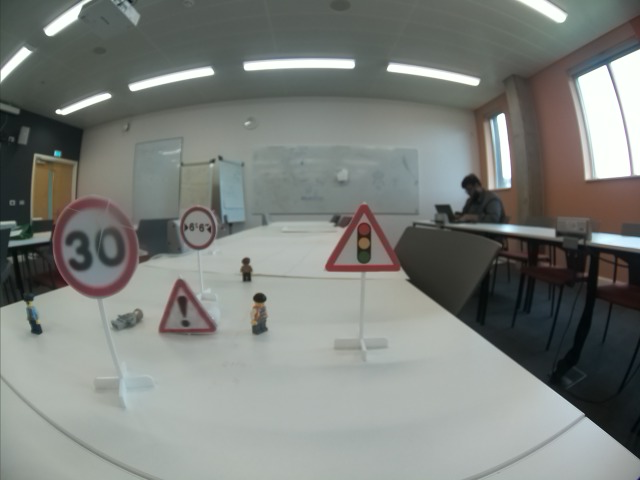30mph: (51, 194, 138, 298)
6ft6: (179, 206, 218, 250)
Lego Man: (20, 292, 47, 336), (250, 292, 270, 335), (112, 306, 145, 330), (238, 256, 254, 283)
Traffic lights: (324, 200, 400, 271)
Warning: (158, 278, 216, 333)
